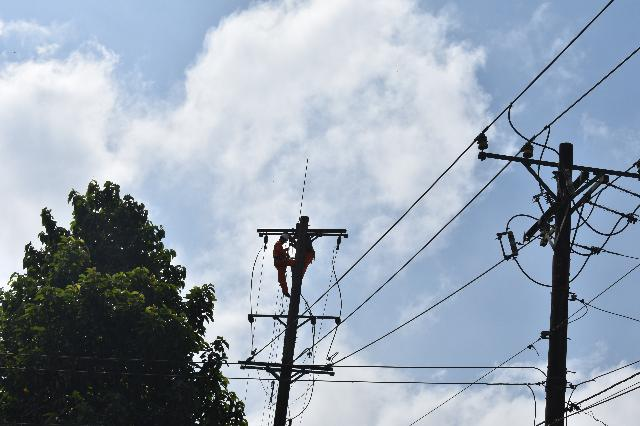gloves: (287, 243, 295, 248), (285, 254, 291, 259)
harness: (306, 246, 317, 255), (272, 256, 291, 260)
helmet: (280, 231, 291, 243)
shoes: (282, 291, 292, 299)
